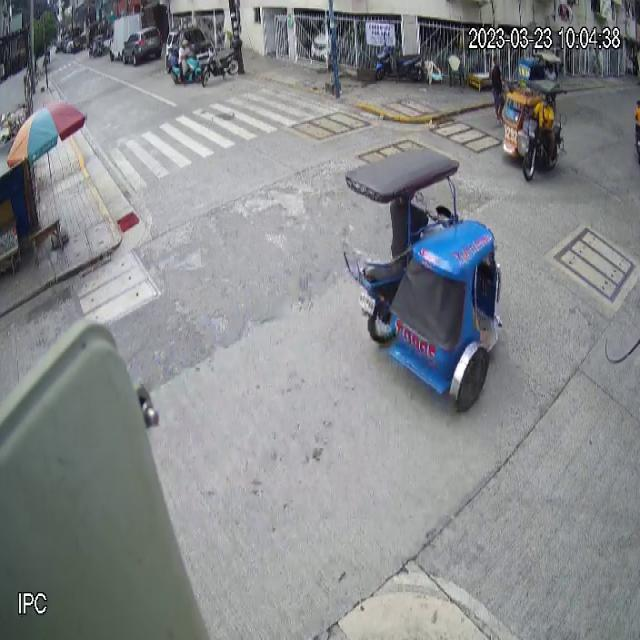Tricycle: (344, 147, 504, 411), (501, 78, 569, 181)
